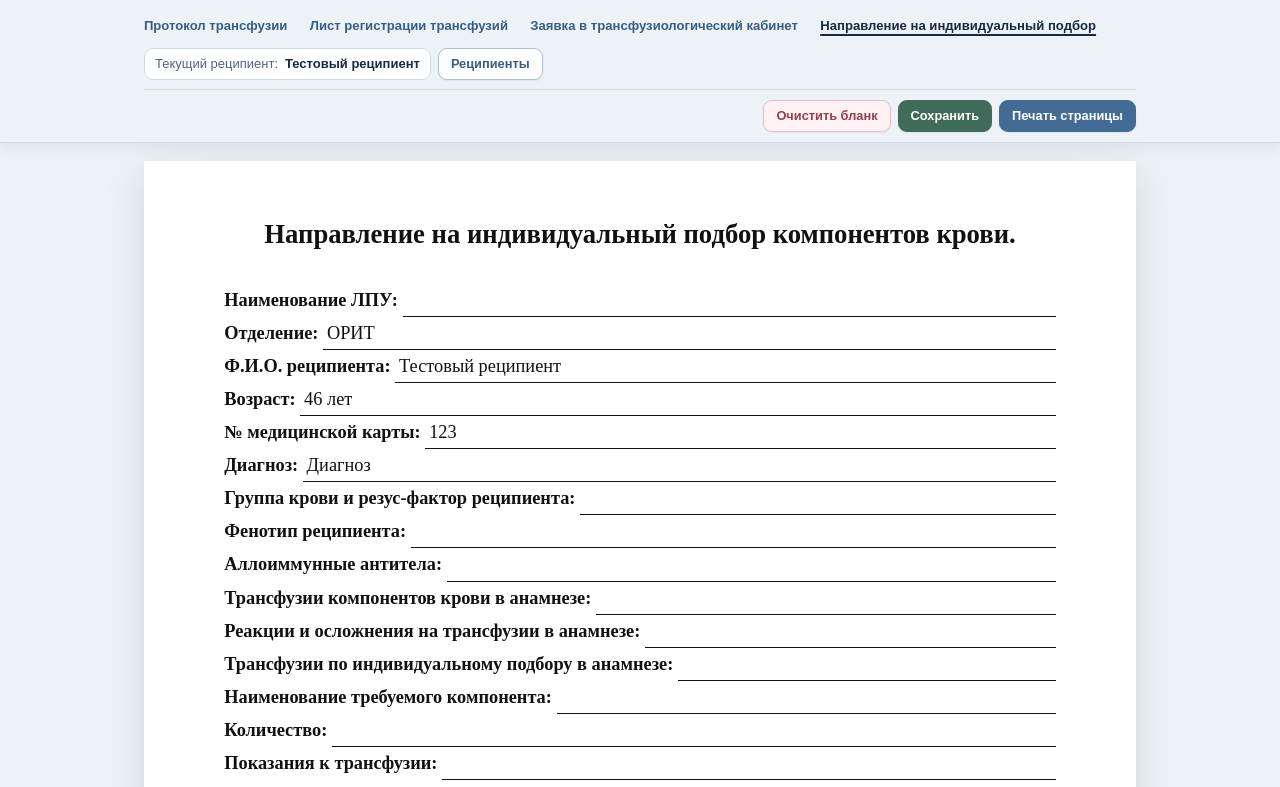
returns a non-default group to erythrocytes and then disables clearing
Click the button "Очистить бланк": (827, 116) left=763, top=100, right=891, bottom=132
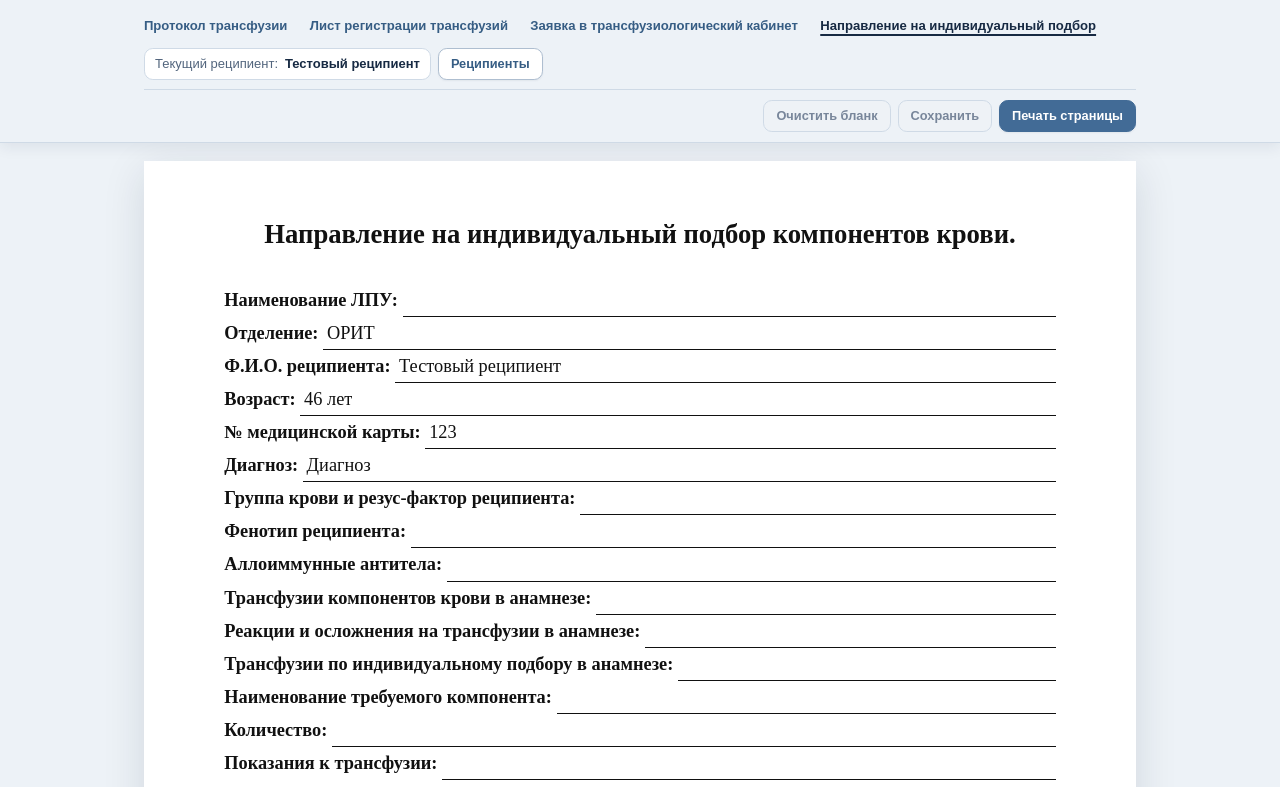
Expected: the button "Очистить бланк" is disabled, left=763, top=100, right=891, bottom=132
Expected: the button "Сохранить" is disabled, left=898, top=100, right=992, bottom=132
